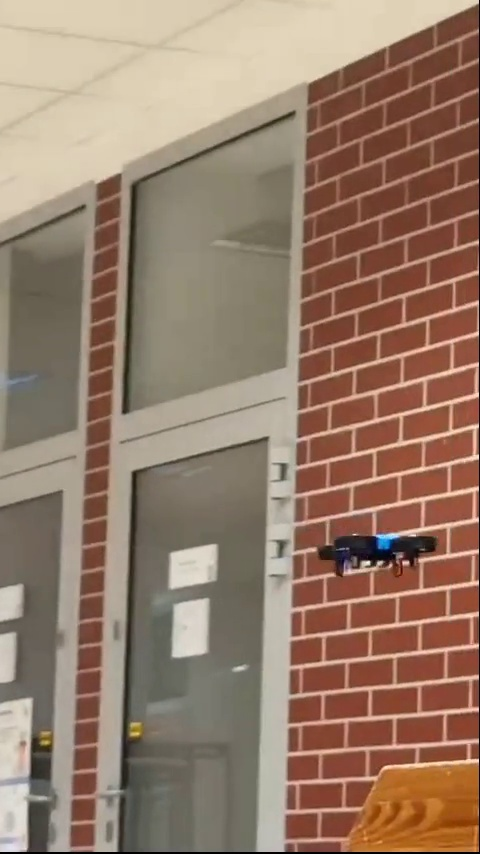drone: (316, 530, 442, 589)
